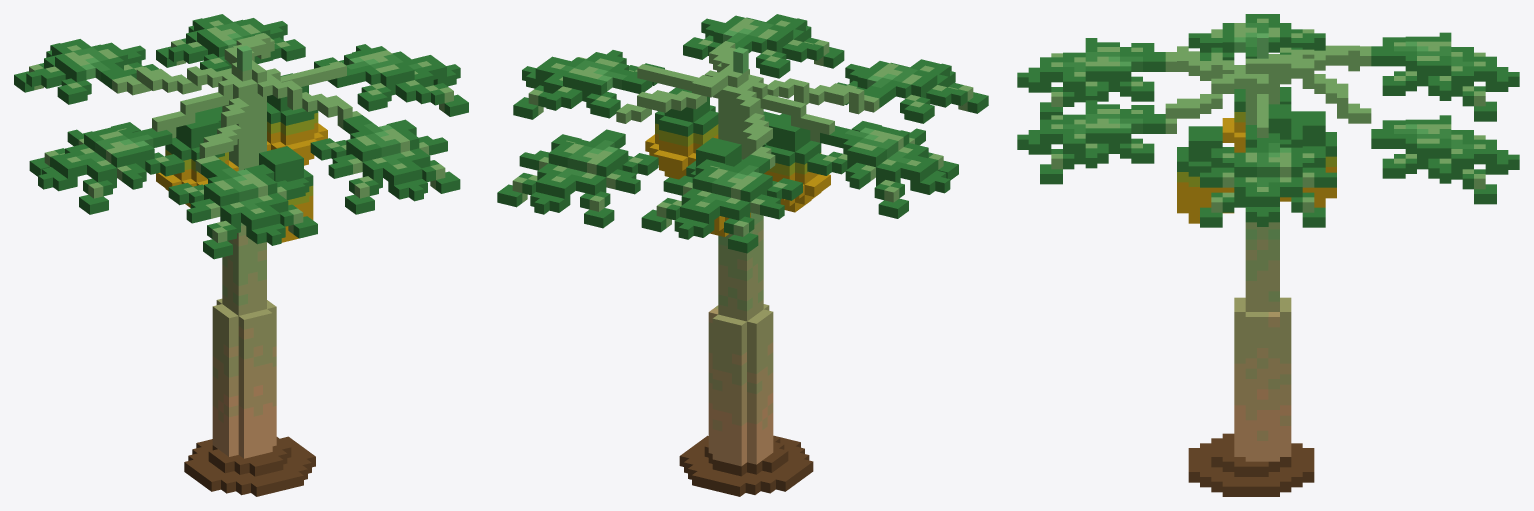
Rendered from 2_1 mamao.obj.
3 renders of one model, left to right at view 1: azimuth 30°, elevation 25°; view 2: azimuth 150°, elevation 25°; view 3: azimuth 270°, elevation 25°, orthographic. The views are drawn at different scales.
Bounding box in the file's own units: 4.4 × 4.2 × 4.4.
1 material, 1 textured.
